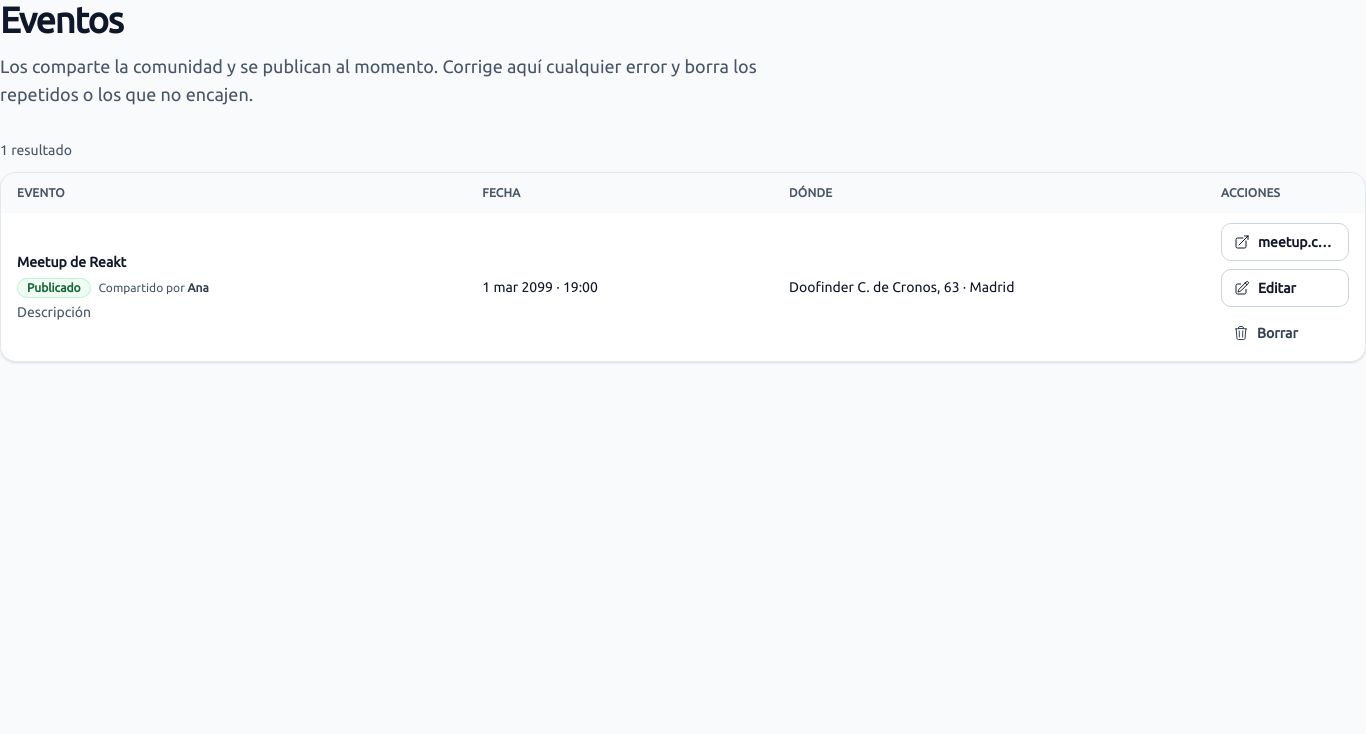
Test: AdminEventsPage › deja corregir un evento: abre el formulario con sus datos y guarda los cambios
Later steps or results of the test are not shown.
Step 1. Click the button named "Editar Meetup de Reakt" → click(1285, 288), box top-left (1221, 269), bottom-right (1349, 307)
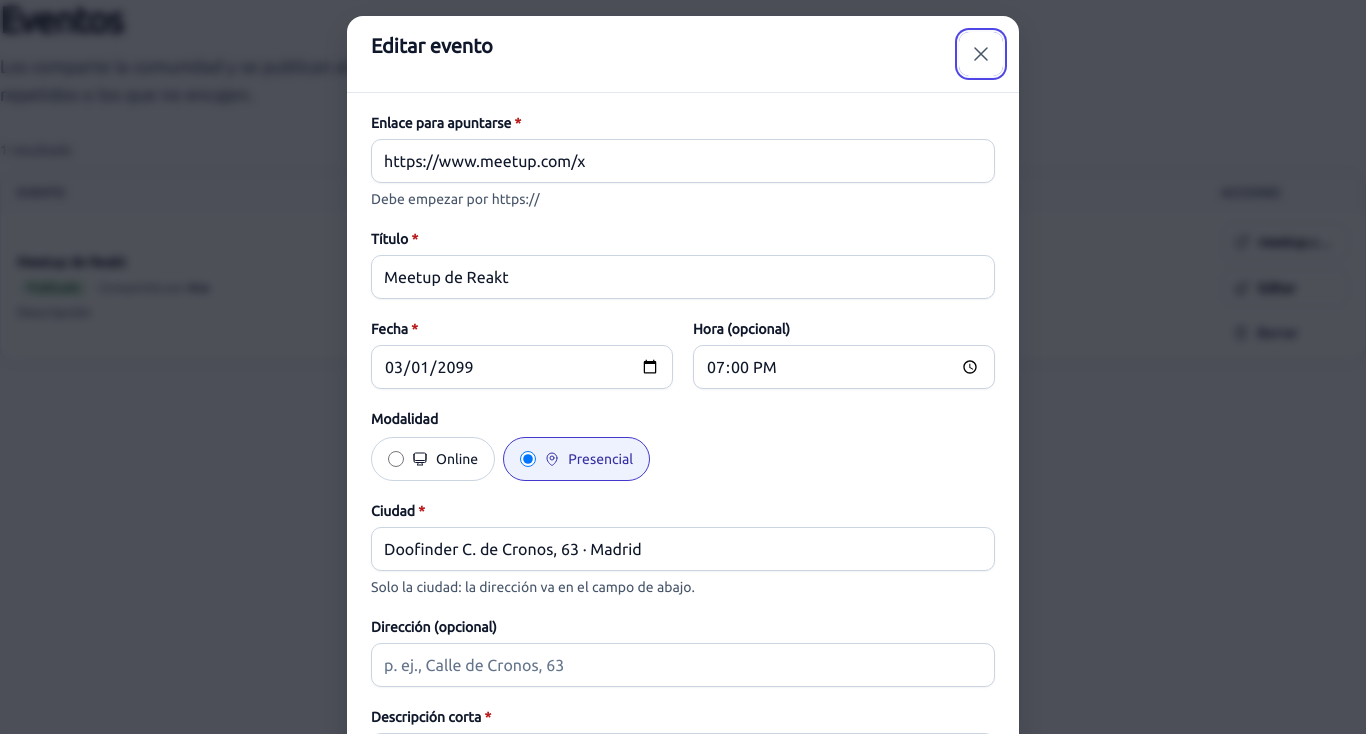
Check: the field labelled "Título *" holds "Meetup de Reakt", box top-left (371, 255), bottom-right (995, 299)
